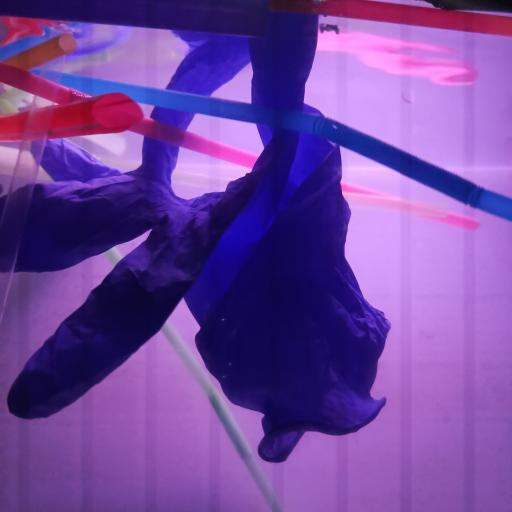glove: (2, 0, 393, 466)
plastic_straw: (2, 60, 484, 234), (36, 67, 512, 221), (106, 242, 284, 512), (0, 93, 55, 316), (2, 0, 271, 38), (272, 0, 512, 37), (0, 91, 145, 140), (1, 32, 77, 70)
